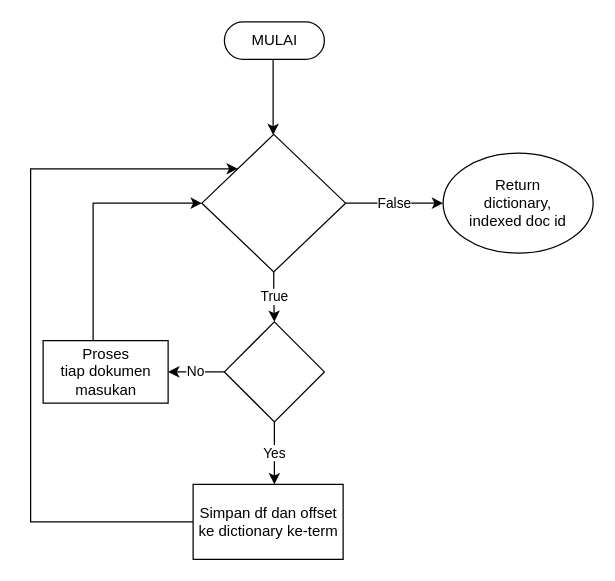
This 615x581 diagram has some shape labels left out. Here are the shapes that lost their labels. From the top down, the centre of each, then its label:
At (273,202): "Ada entri pada dokumen masukan".
At (273,371): "Sudah diproses?".
